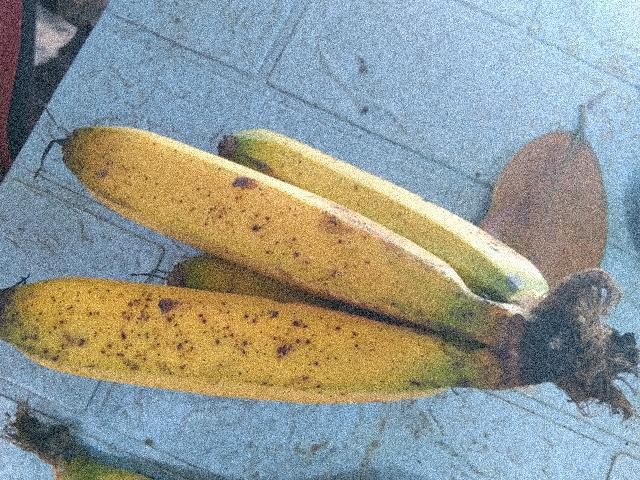ripe: (58, 109, 486, 316), (1, 264, 457, 417)
